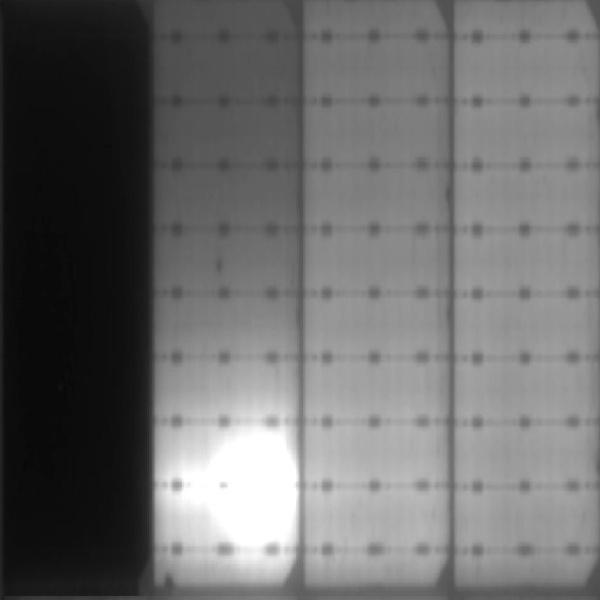hot_spot: (207, 485, 295, 541), (209, 430, 295, 480)
no_electricity: (1, 1, 154, 595)
